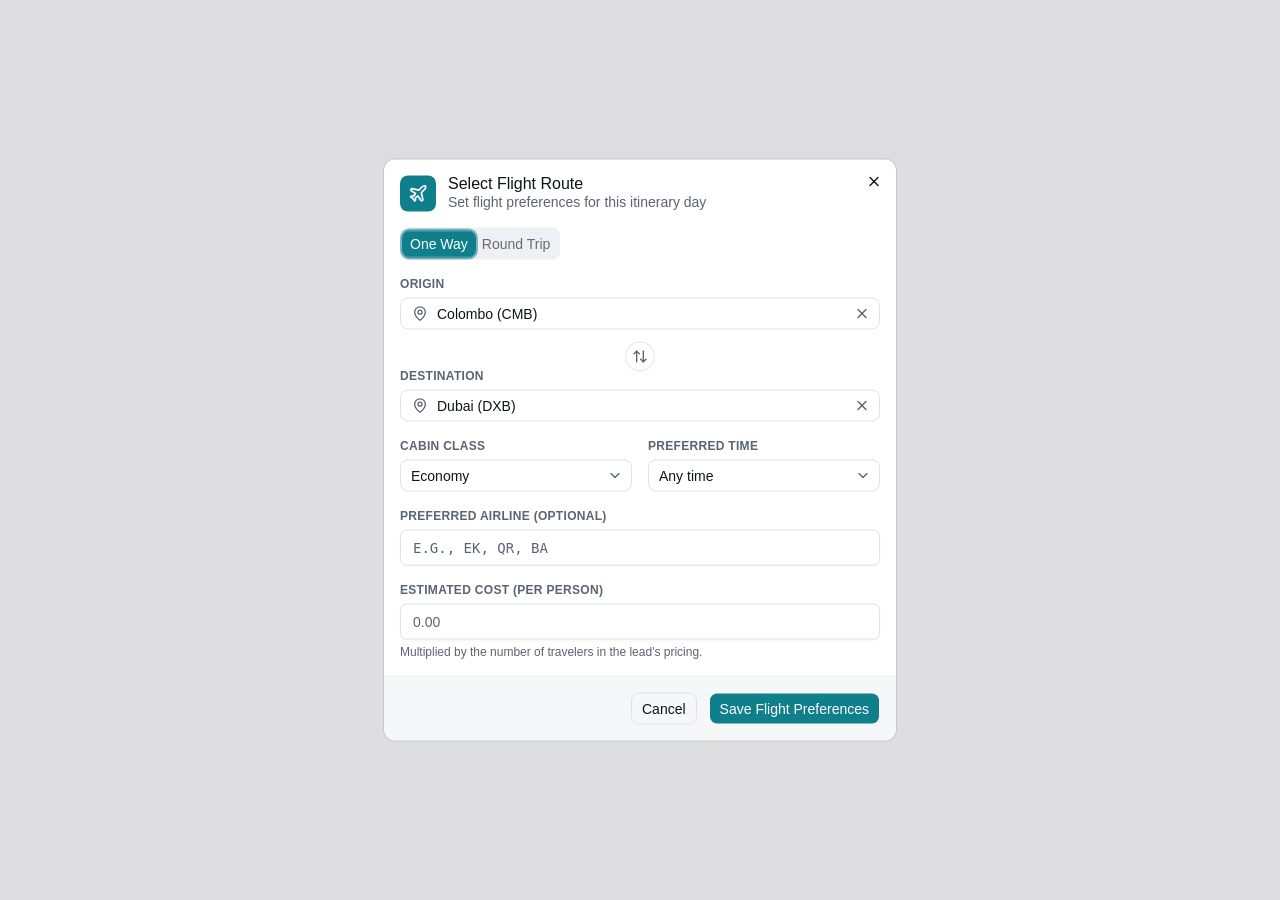
Test: FlightSelectionModal — template mode trip type › previews the return leg as the swapped route
Click the tab "Round Trip". click: (516, 244)
box: [475,231,557,256]
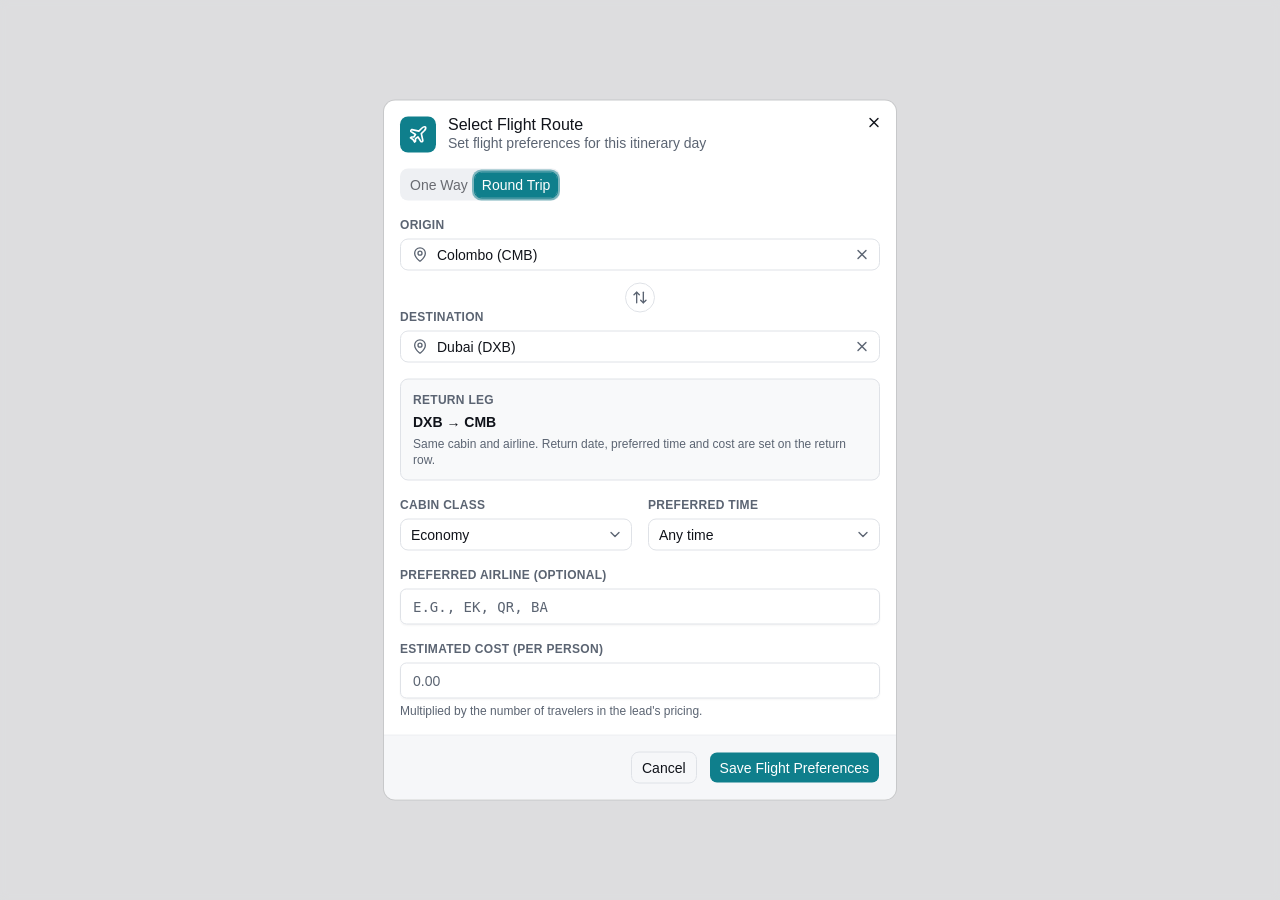
Expected: the text "Return leg" is shown, [413,392,494,406]
Expected: the text "DXB → CMB" is shown, [413,414,496,430]
